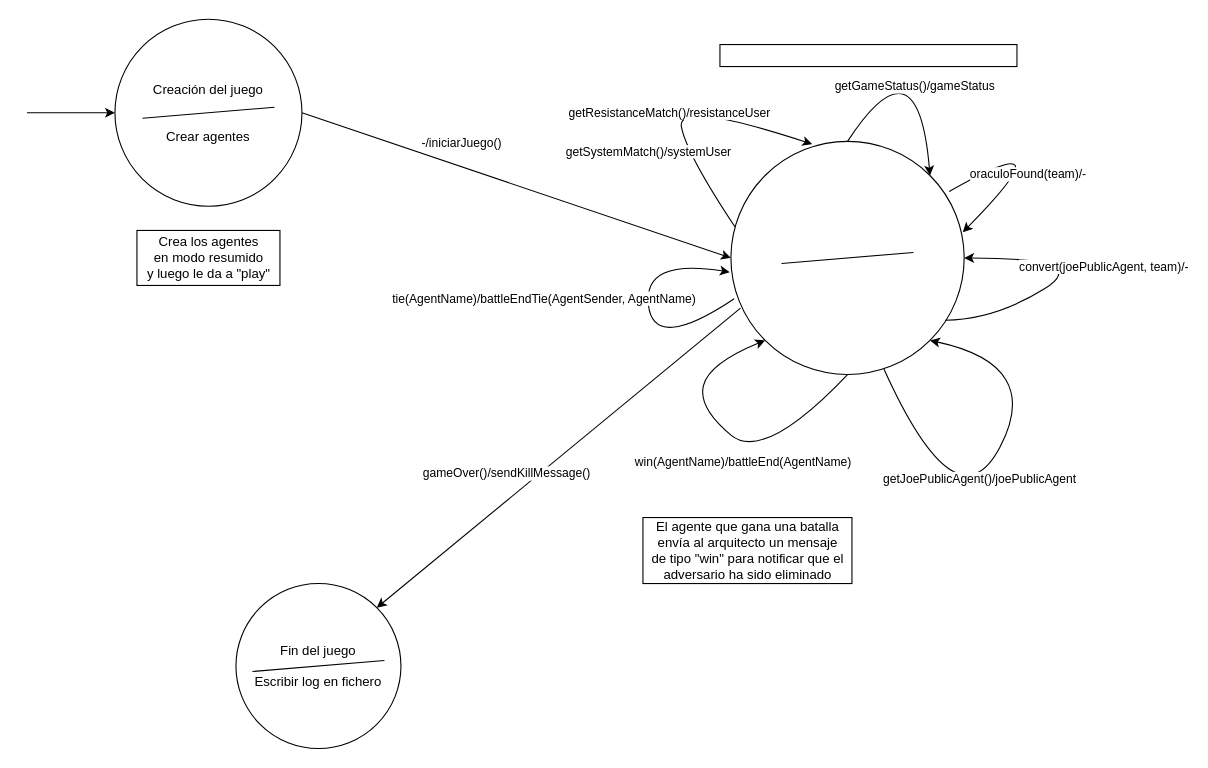
Some shapes in this 1208 by 768 pixel diagram are drawn without their labels. Here are the shapes that lost their labels. From the top down, the centre of each, then its label:
point (868, 55): El log almacena mensajes en orden de llegada
point (847, 257): Idle Guardar info en log
